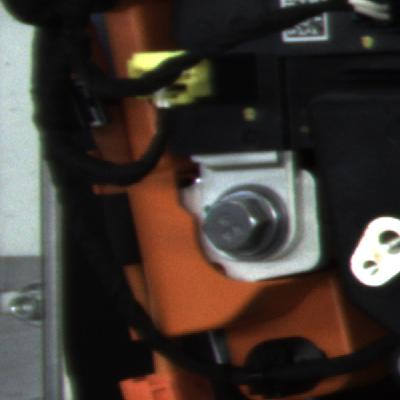nut_b: (188, 176, 295, 266)
